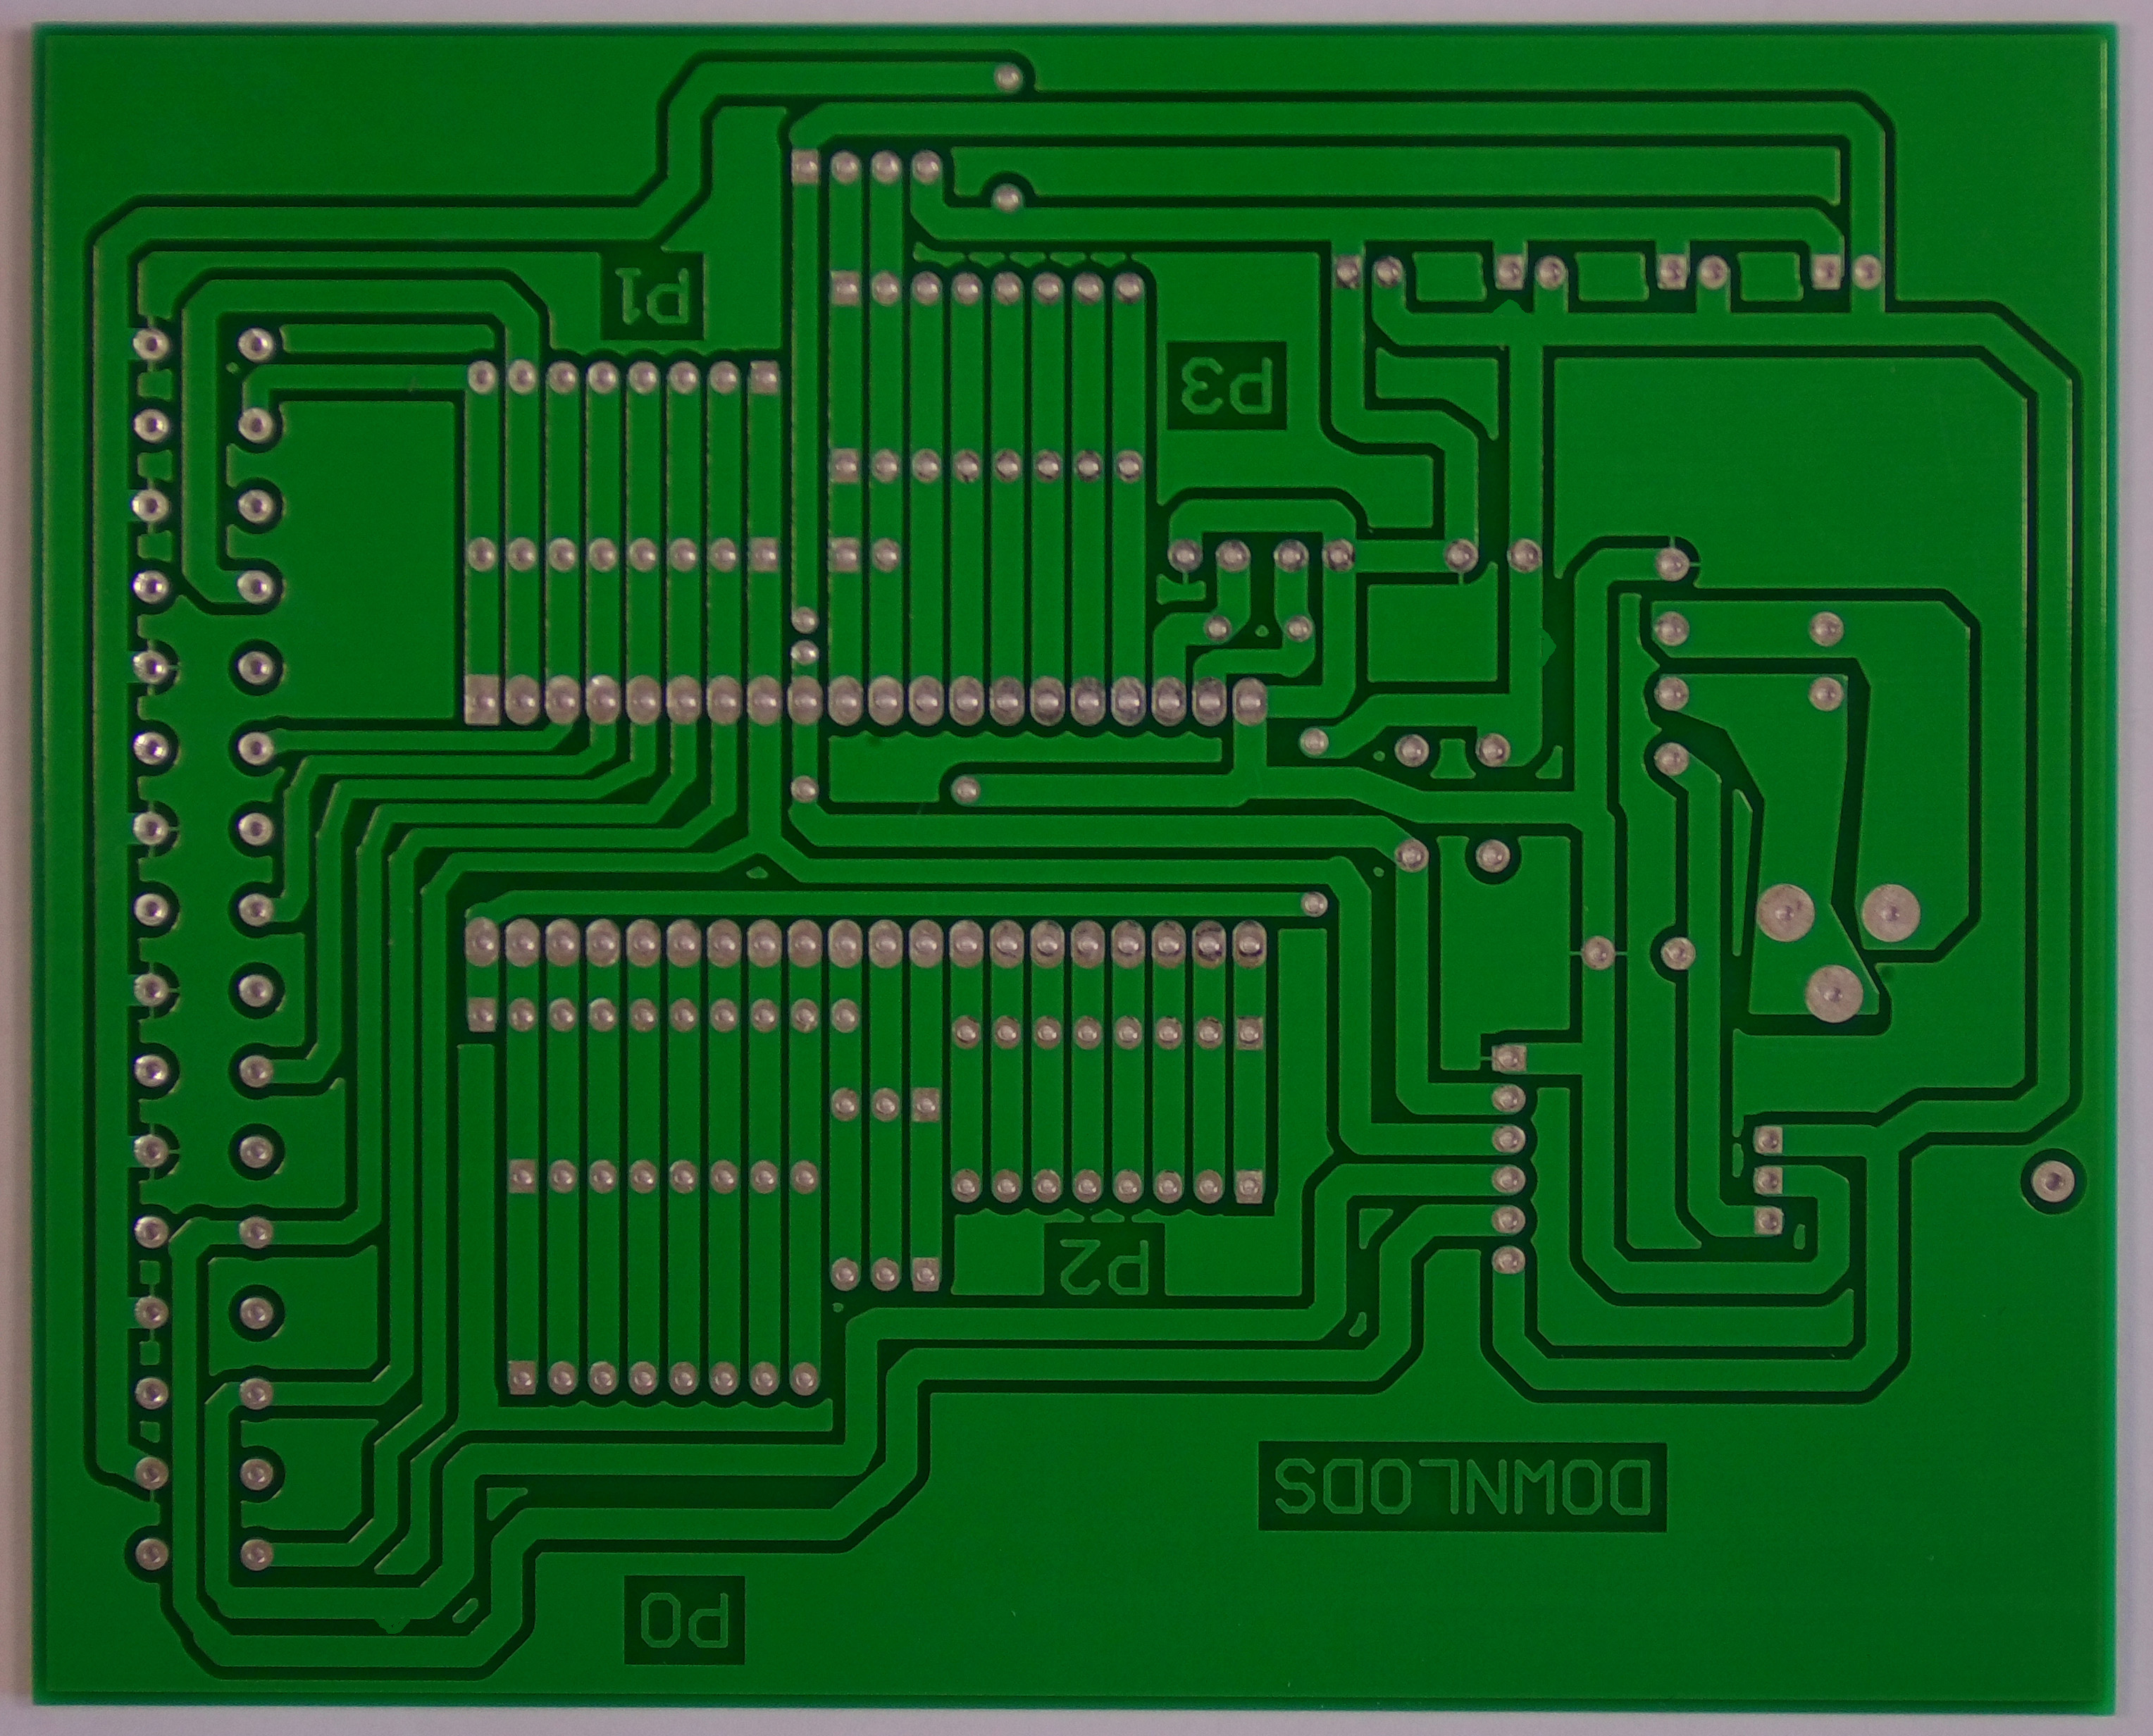spur: (1526, 618, 1567, 678), (367, 1604, 419, 1647), (1487, 289, 1539, 323)
